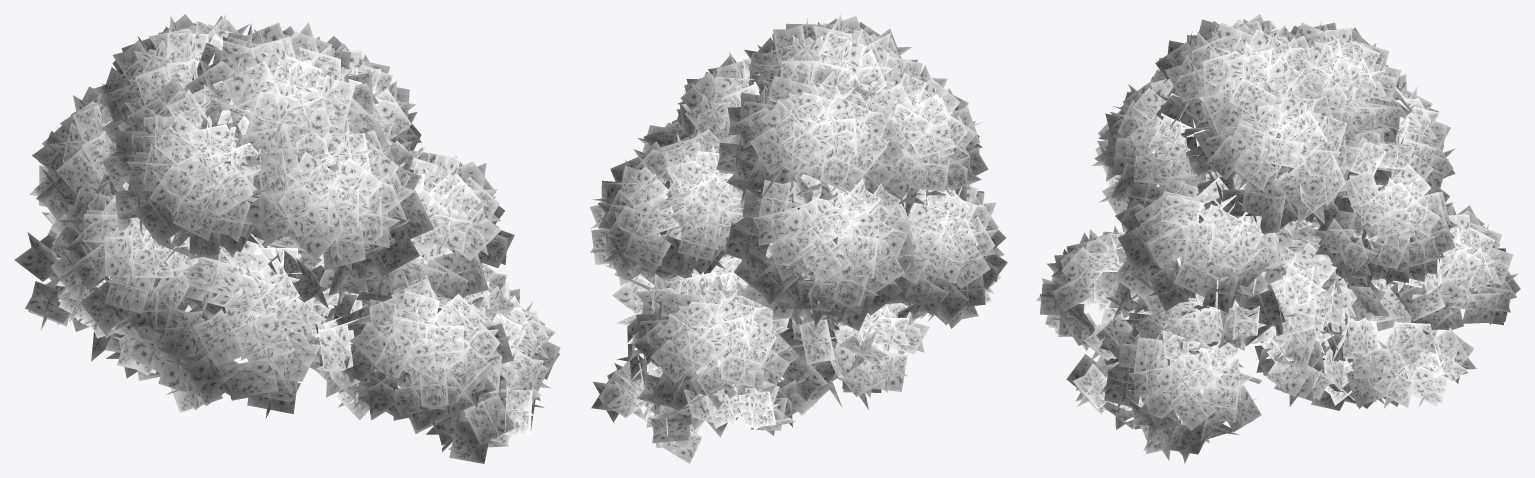
File: TraditionalKoreanHouse_TreeLeafC03.fbx
3 renders of one model, left to right at view 1: azimuth 30°, elevation 25°; view 2: azimuth 150°, elevation 25°; view 3: azimuth 270°, elevation 25°, orthographic. The views are drawn at different scales.
Parts seen in each view (by area): view 1: TraditionalKoreanHouse_TreeLeafC03; view 2: TraditionalKoreanHouse_TreeLeafC03; view 3: TraditionalKoreanHouse_TreeLeafC03.
Boxes of the visible parts, x1,y1,x2,y2 form: TraditionalKoreanHouse_TreeLeafC03: [14, 14, 560, 463]; TraditionalKoreanHouse_TreeLeafC03: [590, 14, 1007, 463]; TraditionalKoreanHouse_TreeLeafC03: [1036, 14, 1520, 463].
Bounding box in the file's own units: 607 × 553 × 682.
